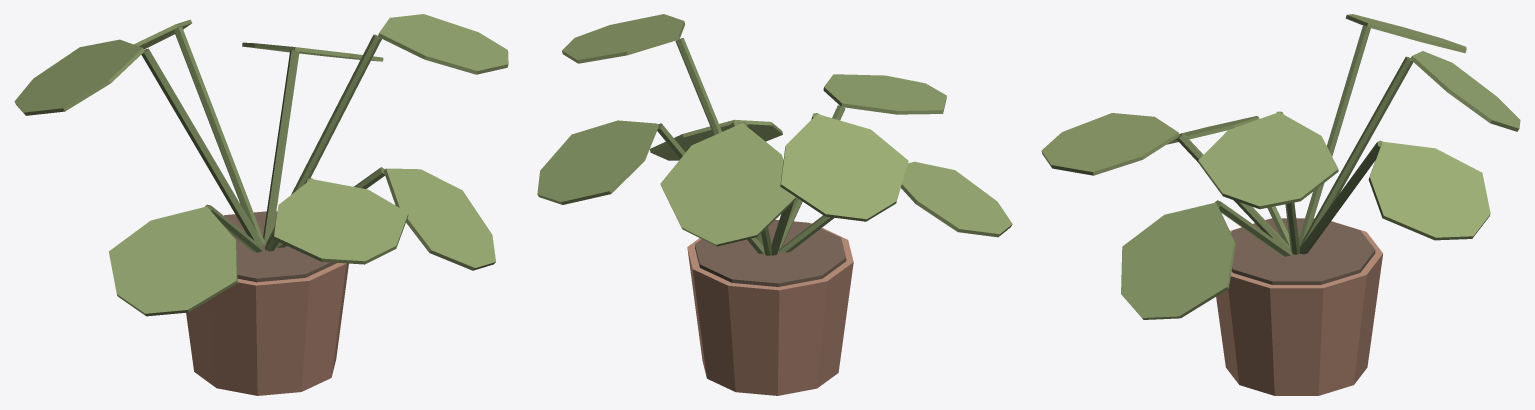
File: PottedMonstera.fbx
3 renders of one model, left to right at view 1: azimuth 30°, elevation 25°; view 2: azimuth 150°, elevation 25°; view 3: azimuth 270°, elevation 25°, orthographic. The views are drawn at different scales.
Visible parts, largest first — view 1: Prop_PottedMonstera; view 2: Prop_PottedMonstera; view 3: Prop_PottedMonstera.
Part boxes in pixels (bbox=[...]): Prop_PottedMonstera: bbox=[14, 14, 508, 395]; Prop_PottedMonstera: bbox=[537, 14, 1012, 395]; Prop_PottedMonstera: bbox=[1041, 14, 1520, 395].
Bounding box in the file's own units: 1.2 × 0.8562 × 1.22.
